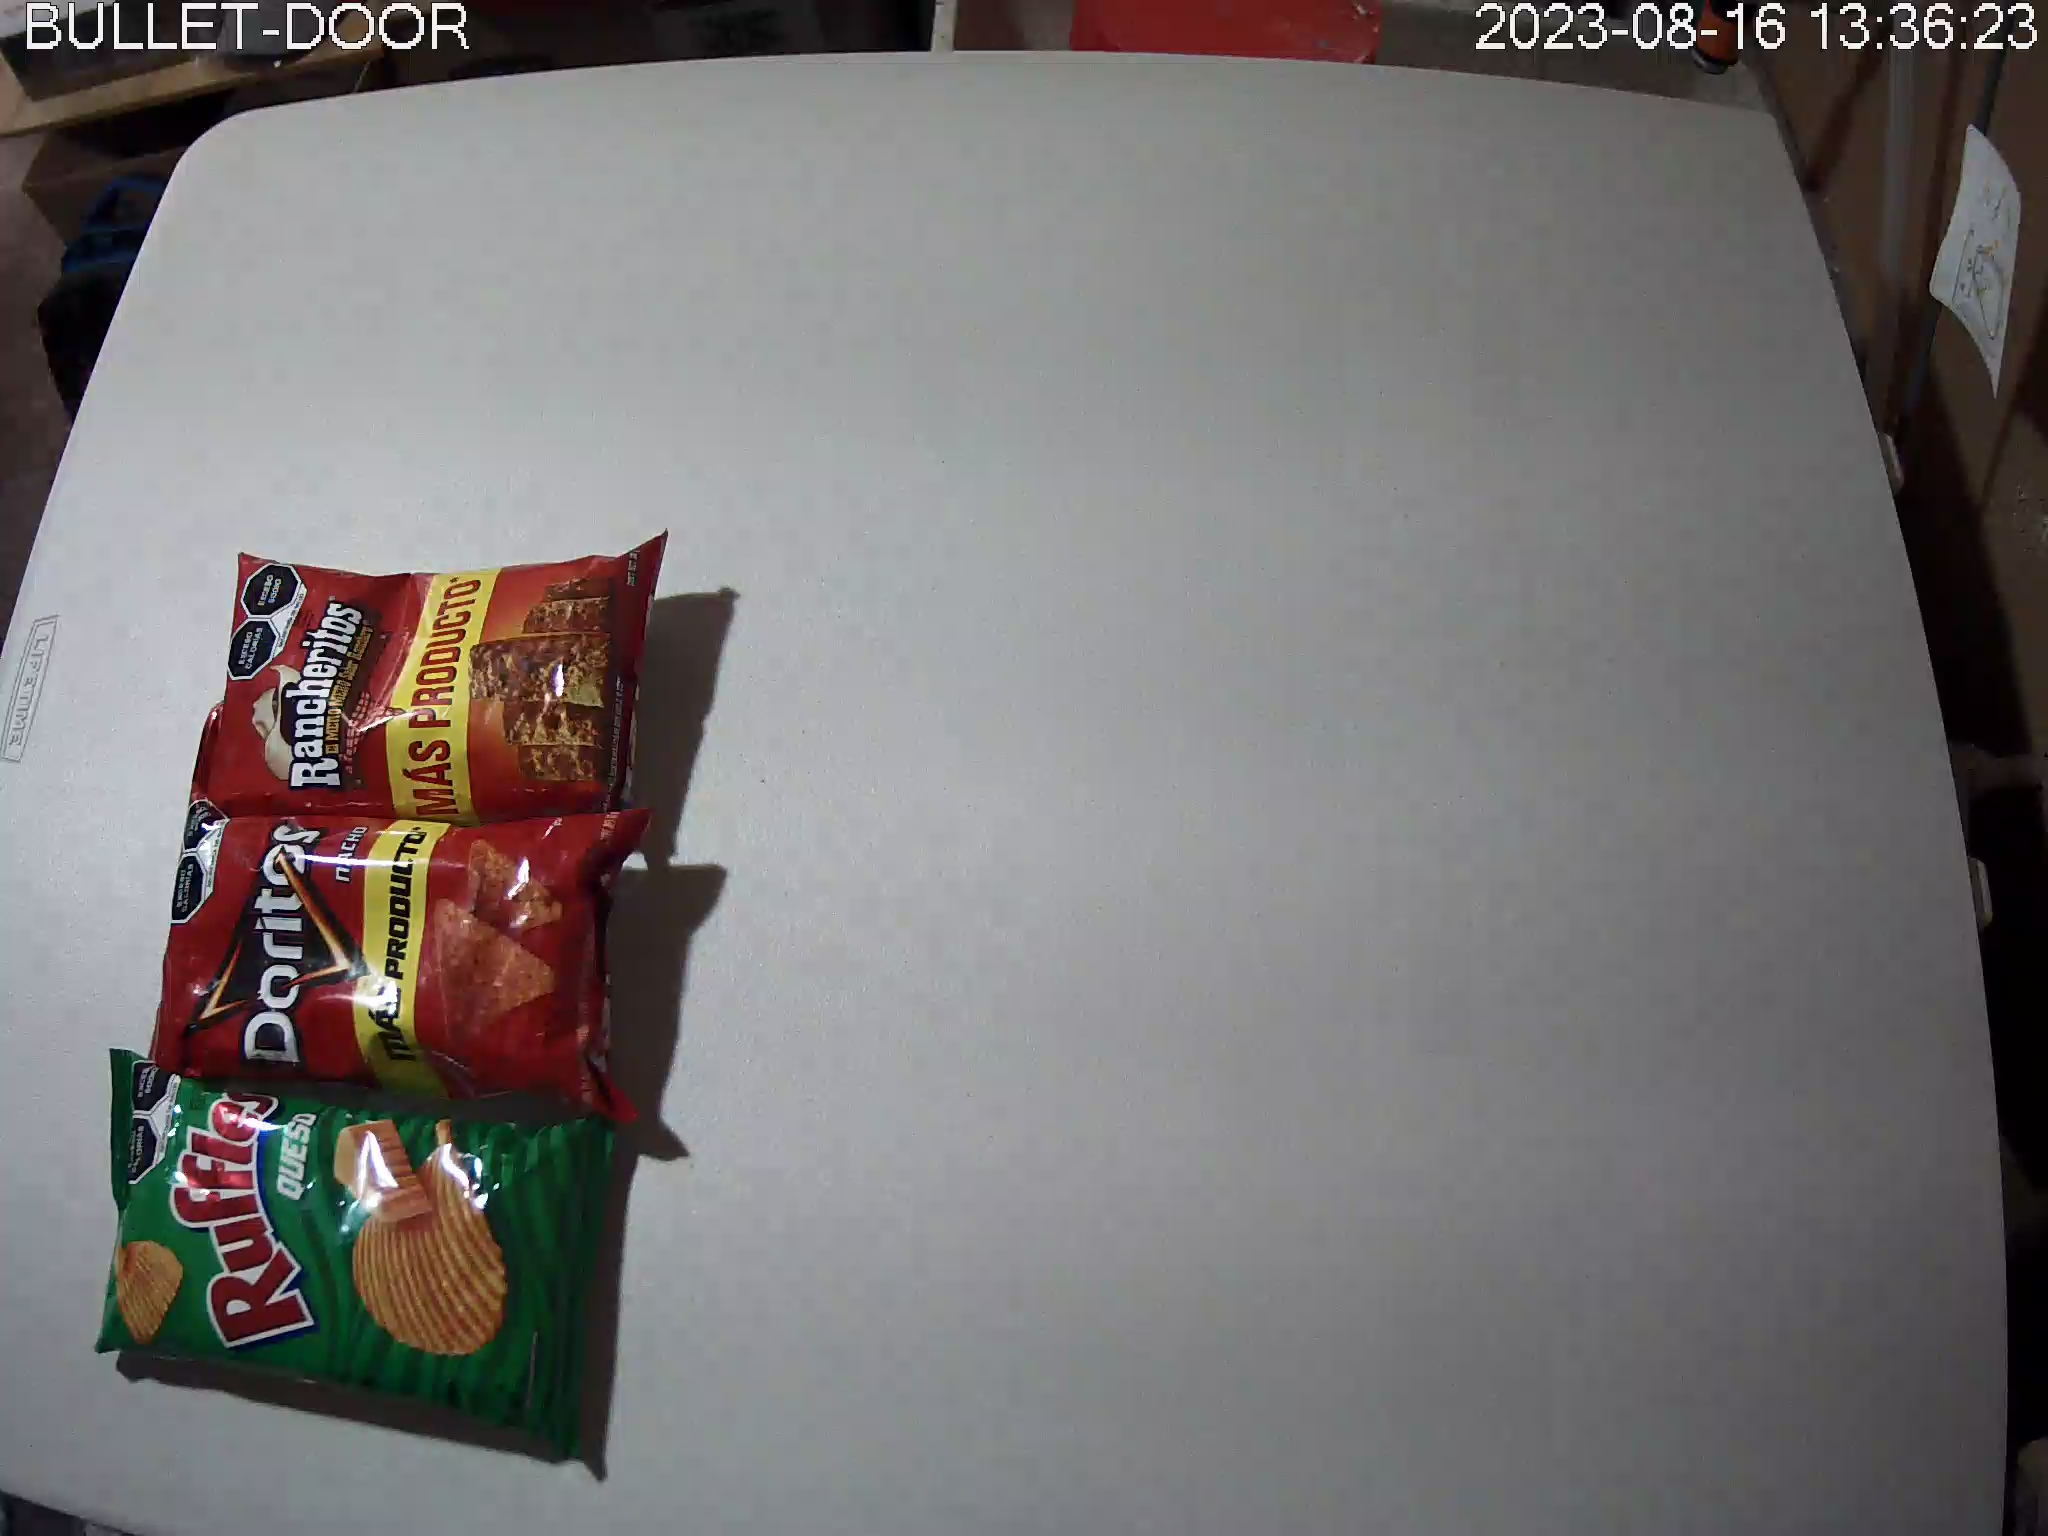DoritosN_61_F: (148, 783, 655, 1129)
Rancheritos_58_F: (189, 528, 669, 845)
RufflesQ_48_F: (94, 1049, 618, 1463)
